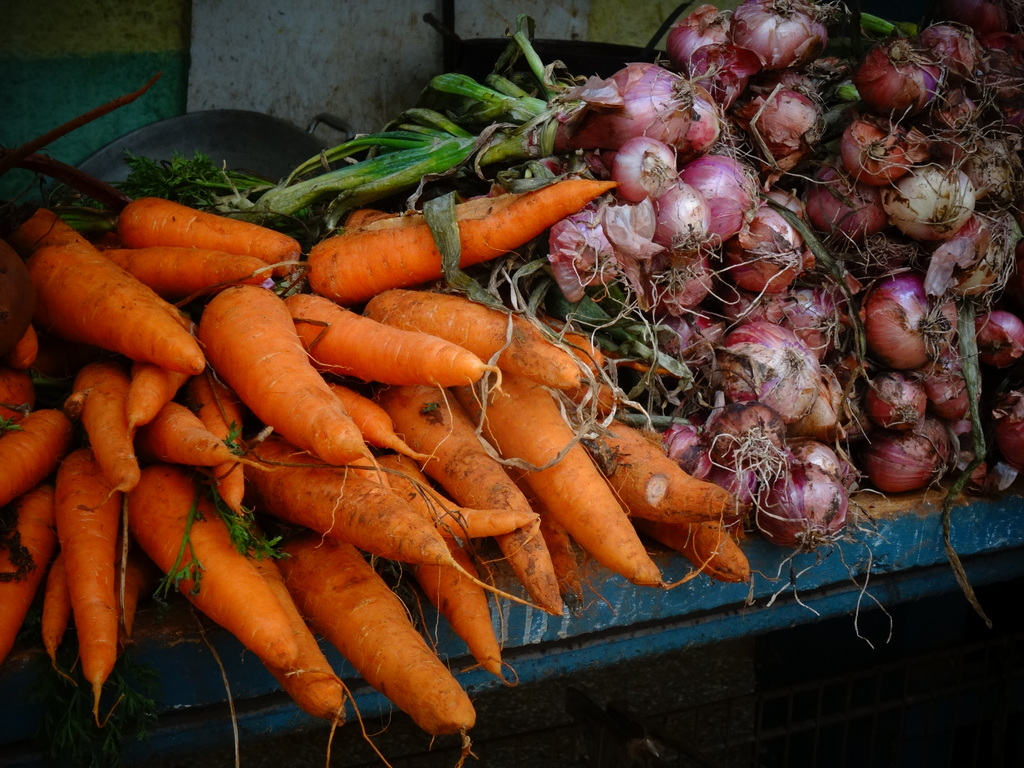Carrot: (0, 178, 780, 767)
